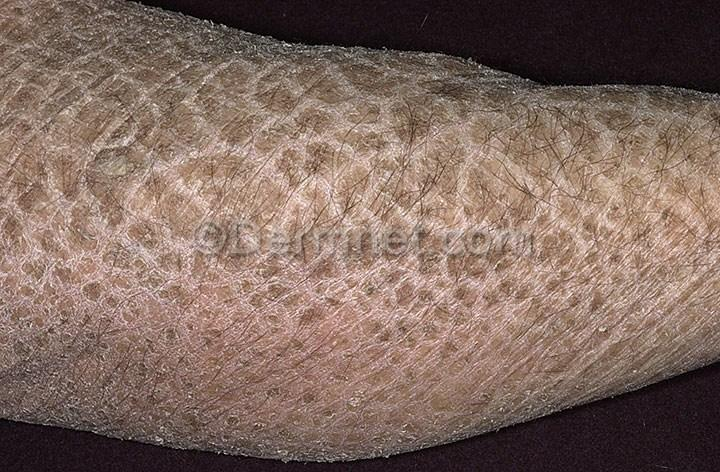liquenificacion 3: (0, 0, 719, 458)
xerosis 3: (0, 0, 719, 461)
